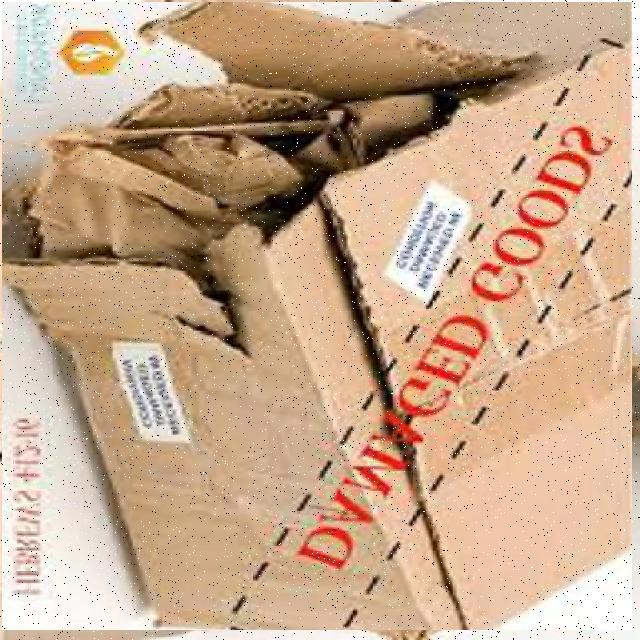defect: (2, 2, 632, 630)
